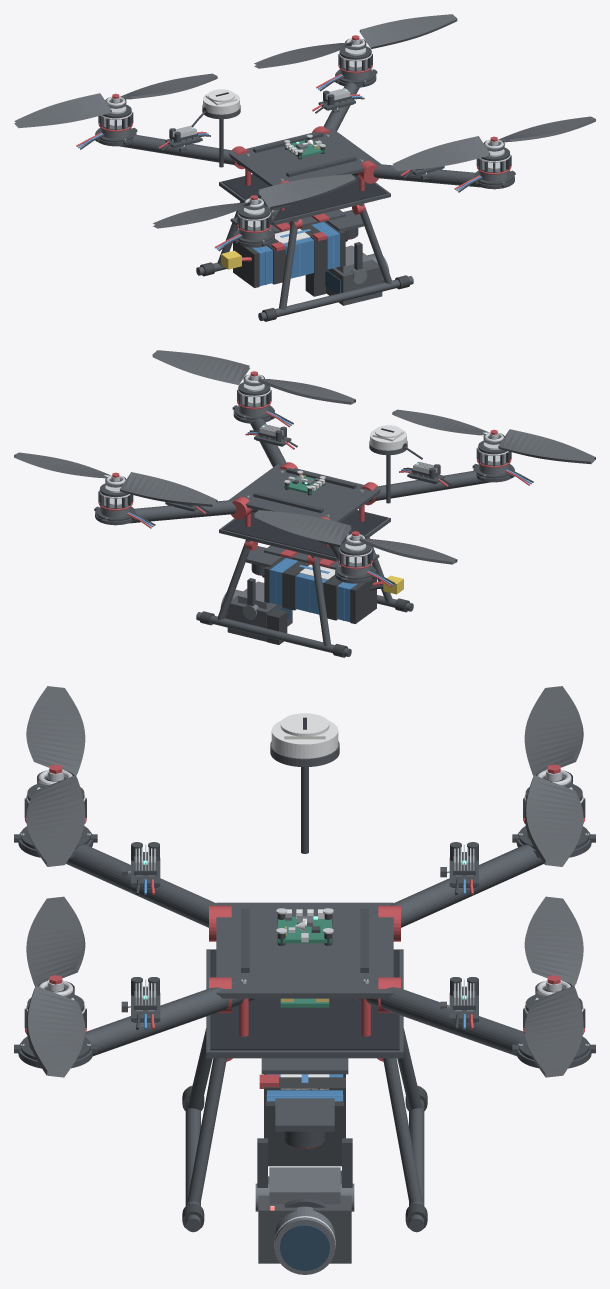
File: eduquad650_reference.glb
The picture shows the model from 3 angles, top to bottom: view 1: azimuth 30°, elevation 25°; view 2: azimuth 150°, elevation 25°; view 3: azimuth 270°, elevation 25°; orthographic projection. The views are drawn at different scales.
Visible parts, largest first — view 1: frame/top_plate, frame/bottom_edge, battery/body, prop/M1/blade_0, prop/M3/blade_0, prop/M4/blade_1, prop/M2/blade_1, frame/arm_M4, frame/rail_right, frame/arm_M2, prop/M3/blade_1, prop/M1/blade_1 (+14 smaller); view 2: frame/top_plate, frame/bottom_edge, battery/body, prop/M2/blade_0, prop/M3/blade_1, prop/M1/blade_1, prop/M4/blade_0, frame/arm_M3, frame/arm_M1, frame/rail_left, prop/M4/blade_1, prop/M2/blade_1 (+14 smaller); view 3: frame/top_plate, frame/bottom_edge, prop/M1/blade_0, prop/M2/blade_0, prop/M3/blade_0, prop/M4/blade_0, prop/M4/blade_1, prop/M2/blade_1, prop/M3/blade_1, prop/M1/blade_1, frame/arm_M2, frame/arm_M4 (+21 smaller).
Part boxes in pixels (x1,y1,x2,y2): frame/top_plate: (228,128,380,186); frame/bottom_edge: (222,174,387,220); battery/body: (252,222,340,285); prop/M1/blade_0: (359,14,457,48); prop/M3/blade_0: (258,174,355,208); prop/M4/blade_1: (14,93,111,128); prop/M2/blade_1: (392,136,490,170); frame/arm_M4: (120,134,249,166); frame/rail_right: (258,276,413,320); frame/arm_M2: (352,163,481,187); prop/M3/blade_1: (153,202,250,228); prop/M1/blade_1: (254,42,351,68); frame/top_plate: (229,464,381,522); frame/bottom_edge: (222,510,387,556); battery/body: (269,558,357,621); prop/M2/blade_0: (152,350,249,384); prop/M3/blade_1: (498,429,595,464); prop/M1/blade_1: (119,472,217,506); prop/M4/blade_0: (254,510,351,544); frame/arm_M3: (360,470,489,502); frame/arm_M1: (128,499,257,523); frame/rail_left: (196,612,351,656); prop/M4/blade_1: (359,538,457,564); prop/M2/blade_1: (258,378,355,404); frame/top_plate: (216,902,393,998); frame/bottom_edge: (210,950,399,1050); prop/M1/blade_0: (524,986,583,1077); prop/M2/blade_0: (26,986,85,1077); prop/M3/blade_0: (26,775,85,866); prop/M4/blade_0: (524,775,583,866); prop/M4/blade_1: (524,686,583,775); prop/M2/blade_1: (26,896,85,986); prop/M3/blade_1: (26,686,85,775); prop/M1/blade_1: (524,896,583,986); frame/arm_M2: (84,979,256,1056); frame/arm_M4: (370,844,543,927).
Size of the model in its own units: 0.8403 by 0.4246 by 0.5368.
